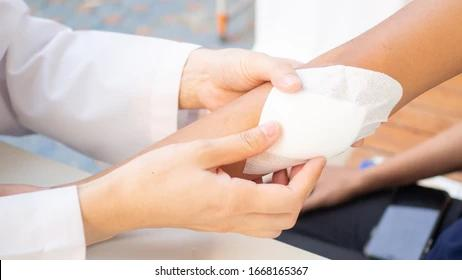gauze: (243, 64, 403, 177)
